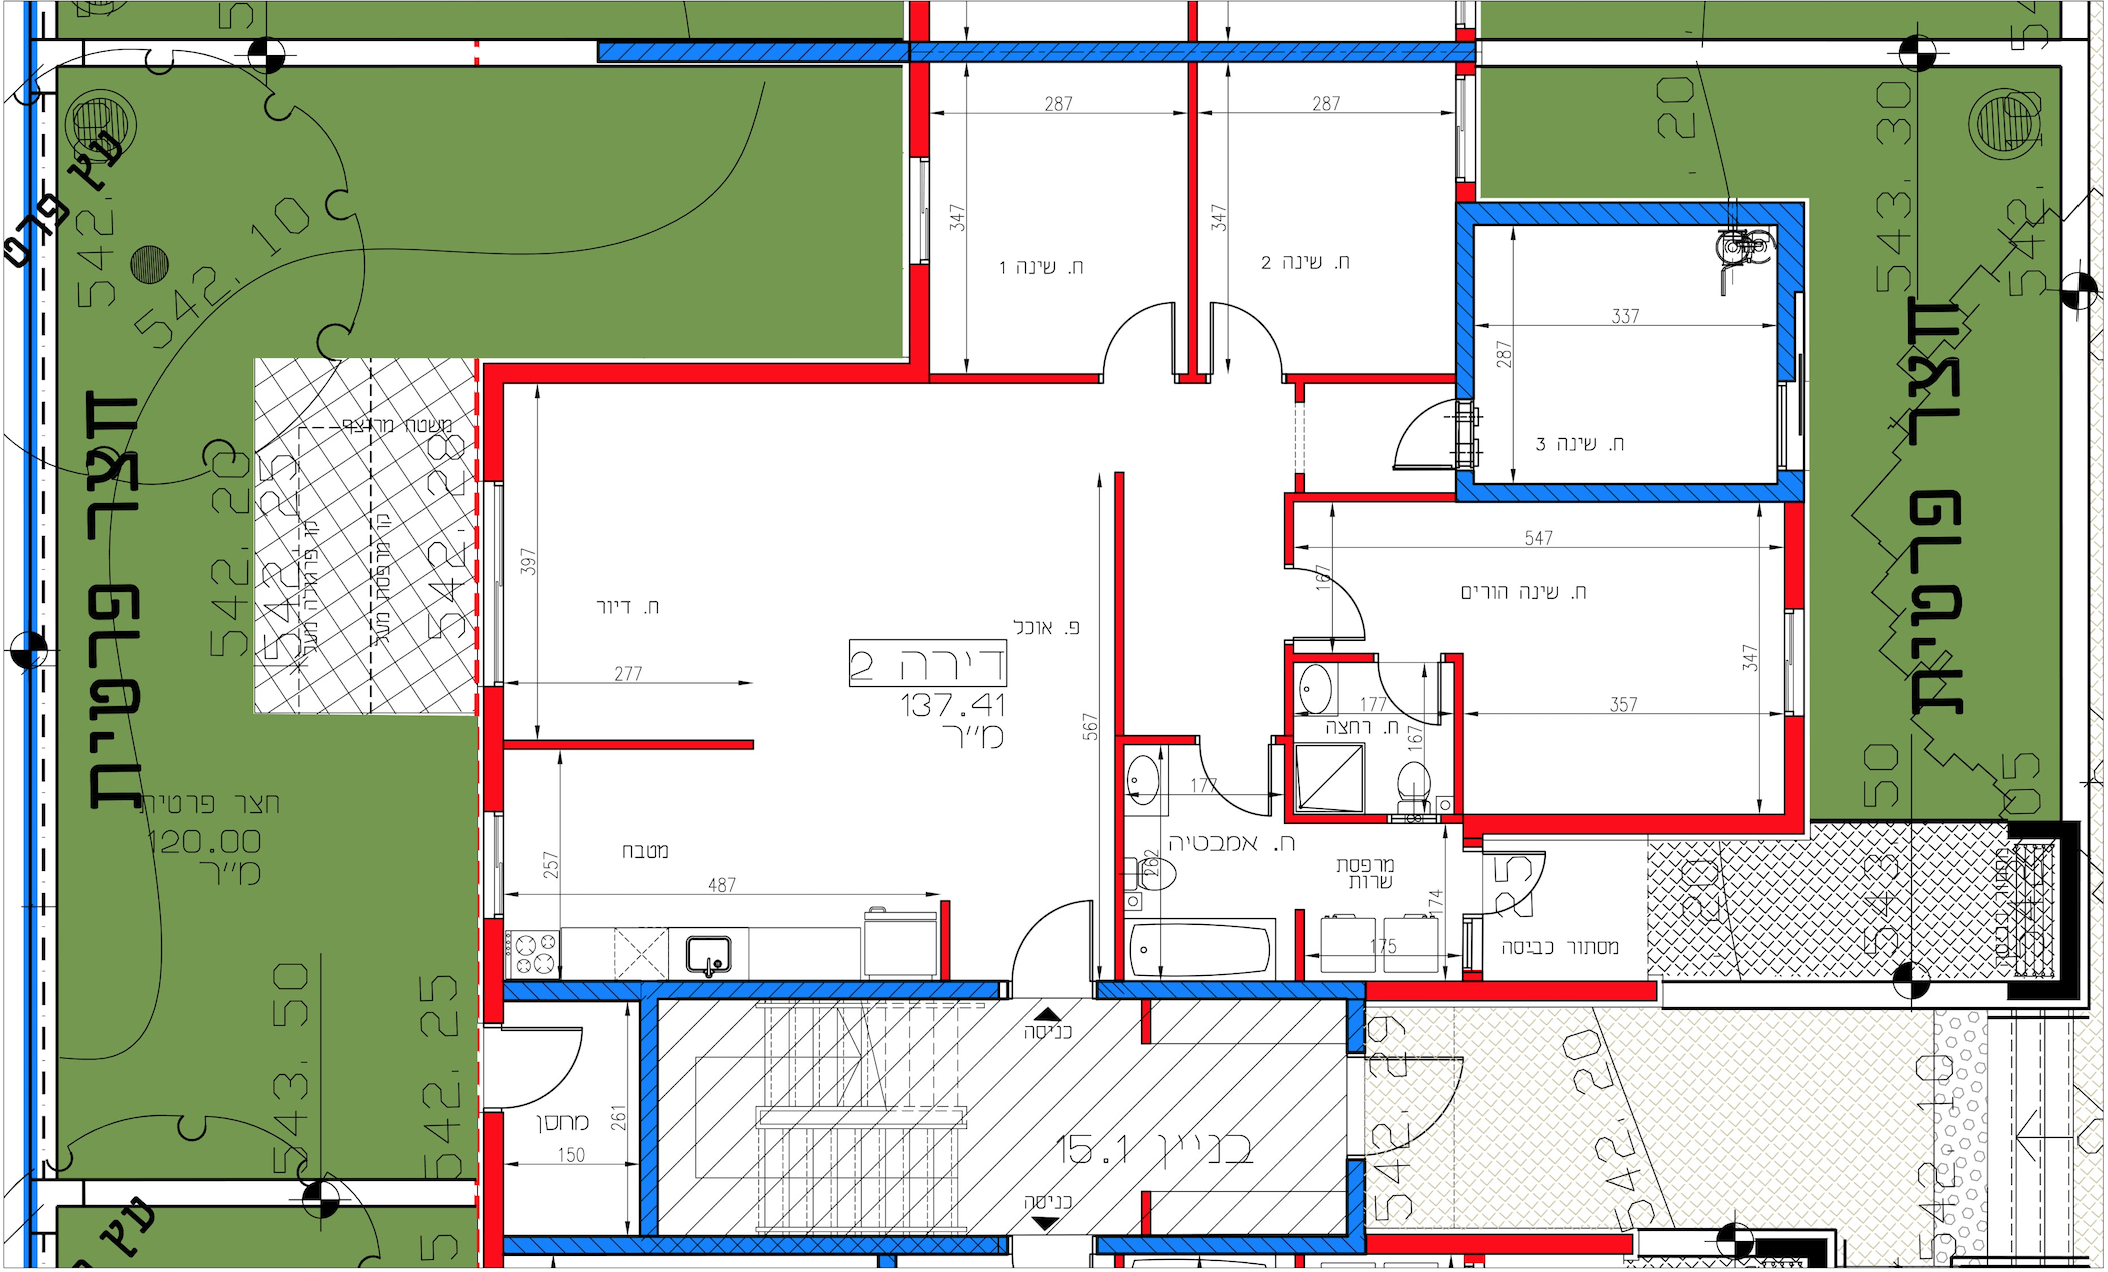door: (1009, 896, 1095, 969), (1209, 297, 1283, 366), (1390, 394, 1448, 480), (1104, 298, 1174, 366)
wall: (483, 364, 929, 385), (485, 686, 503, 810), (507, 741, 751, 750)
window: (1777, 385, 1787, 464)
